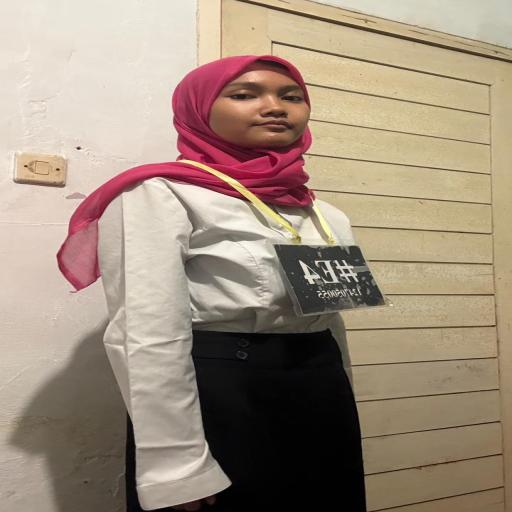kemeja_benar: (86, 188, 370, 338)
kerudung_benar: (130, 50, 336, 211)
nametag_ada: (264, 199, 400, 320)
rok_benar: (115, 327, 363, 512)
